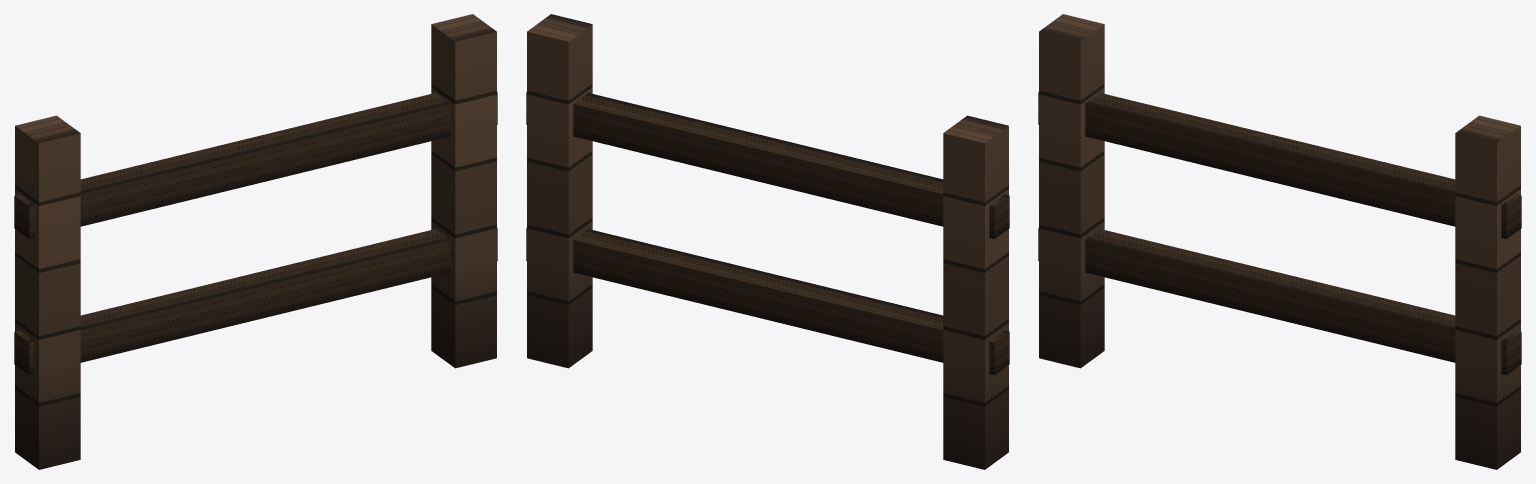
Rendered from fence.glb.
3 views of the same model, side by side, from view 1: azimuth 30°, elevation 25°; view 2: azimuth 150°, elevation 25°; view 3: azimuth 330°, elevation 25° (orthographic).
Parts seen in each view (by area): view 1: fence; view 2: fence; view 3: fence.
Part boxes in pixels (bbox=[...]): fence: bbox=[14, 14, 497, 469]; fence: bbox=[526, 14, 1009, 469]; fence: bbox=[1038, 14, 1521, 469].
Size of the model in its own units: 0.9 by 0.6 by 0.08.
Materials: 1 (1 with a texture image).
